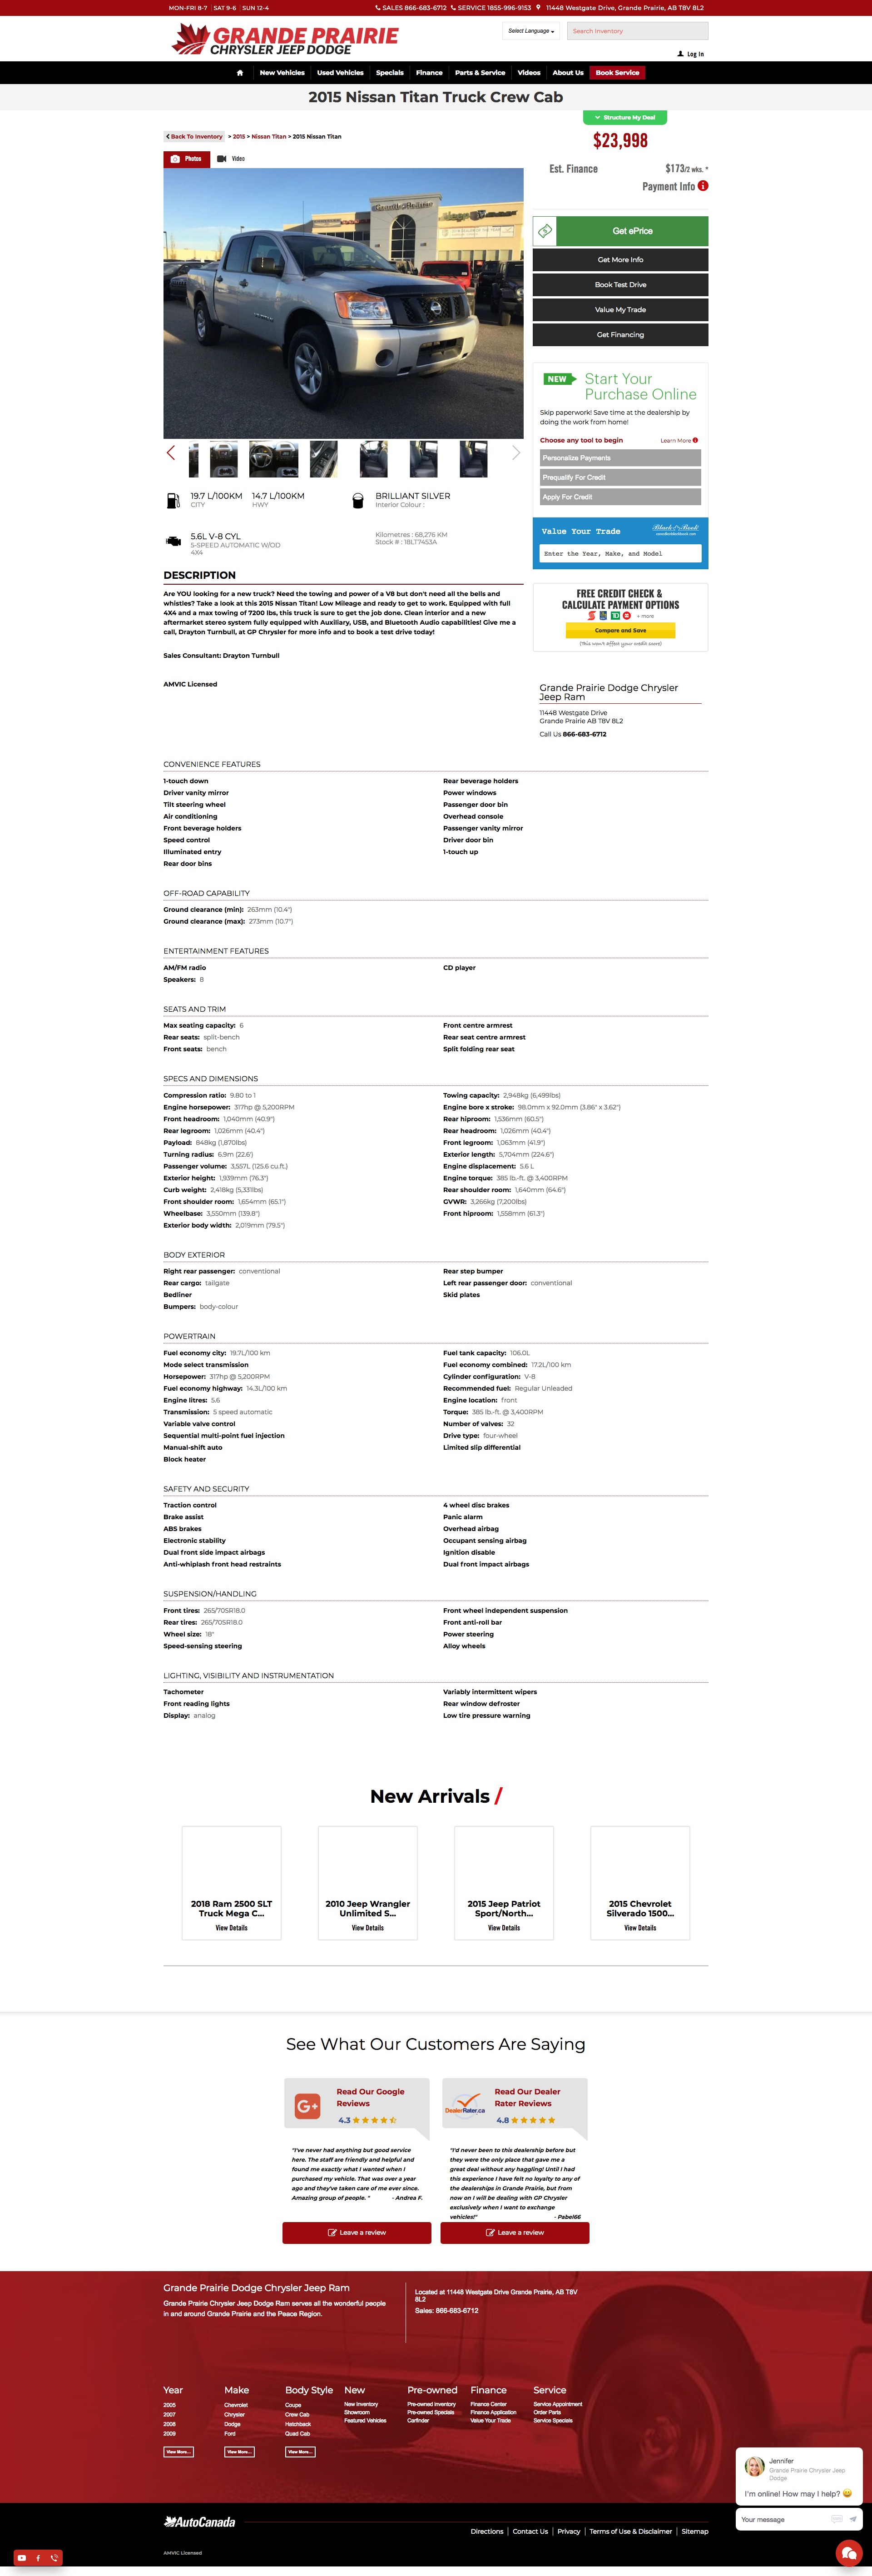car: (512, 445, 521, 460)
